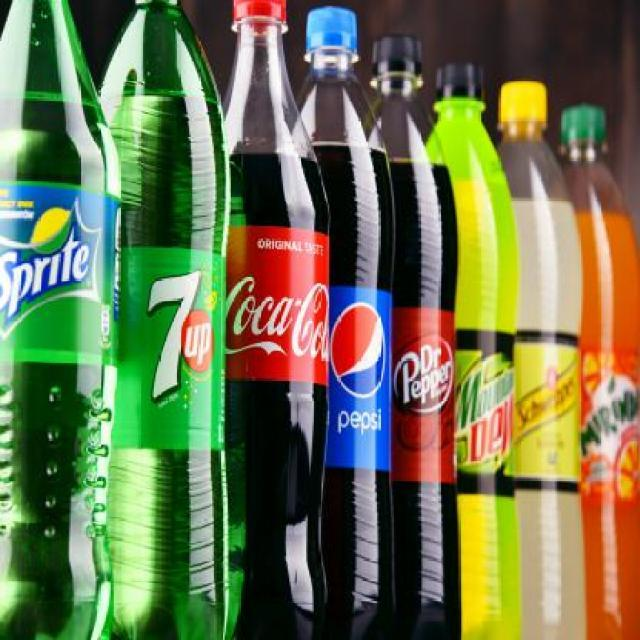Coke: (220, 1, 337, 640)
